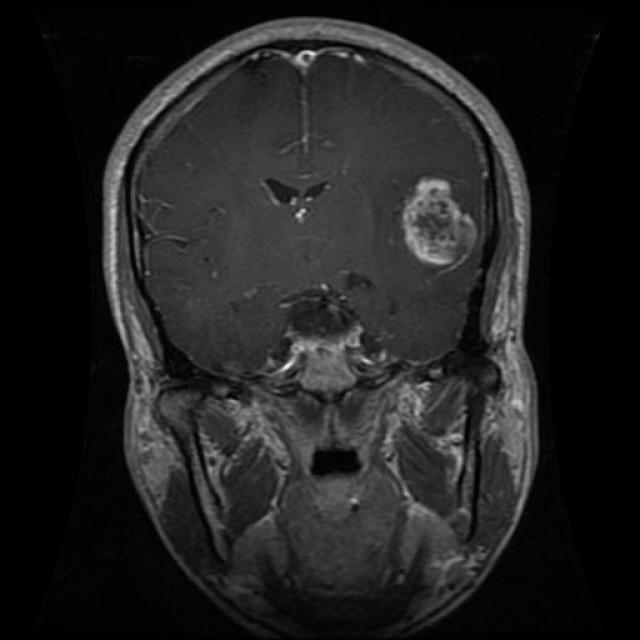Brain-Tumor: (388, 158, 484, 274)
